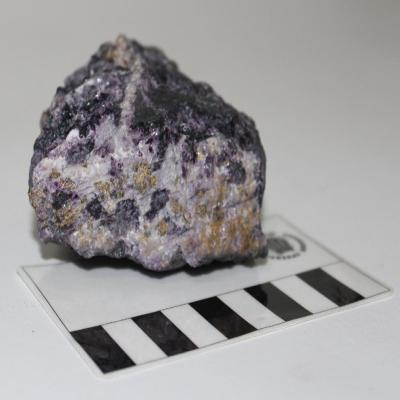mineralogy: (27, 34, 268, 273)
